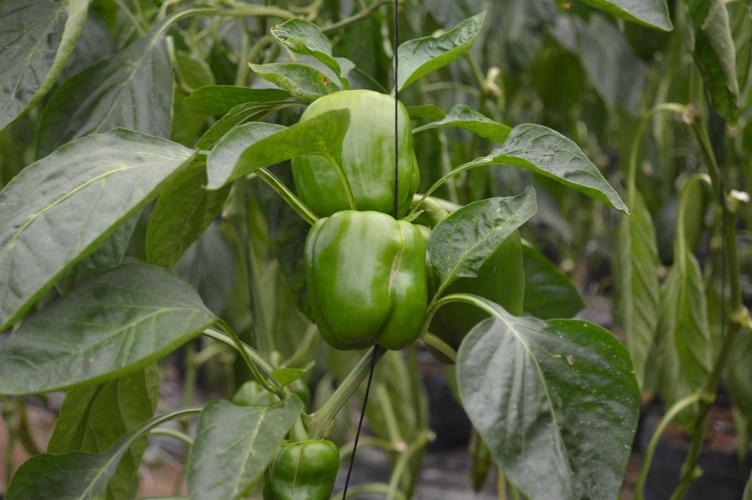BellPepper: (291, 88, 423, 213), (303, 212, 423, 346), (251, 438, 337, 498)
